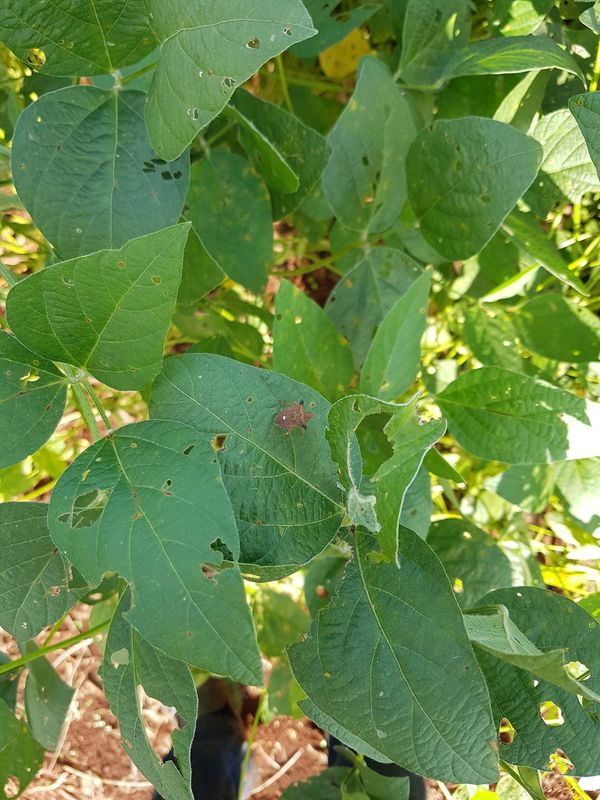Euschistus_heros_adulto: (268, 394, 320, 440)
